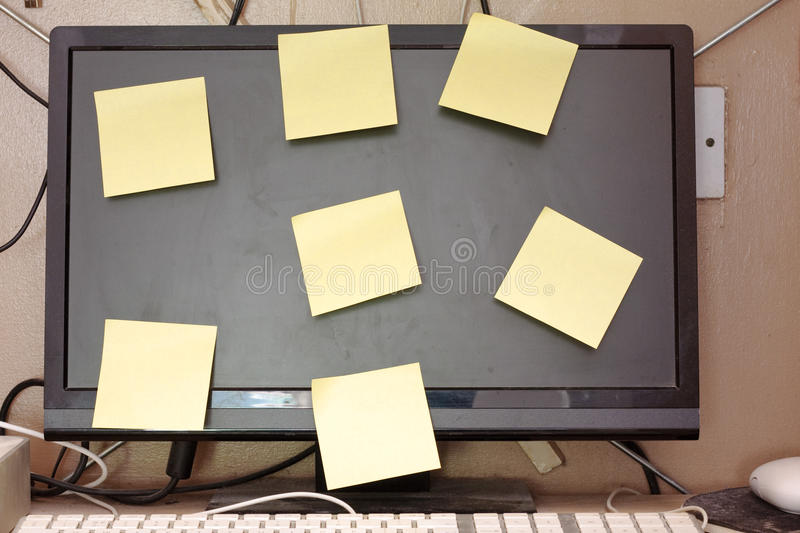Note: (494, 208, 641, 352), (440, 13, 579, 140), (311, 364, 441, 490), (292, 191, 425, 314), (277, 24, 399, 140), (97, 80, 212, 192), (92, 325, 212, 431)
